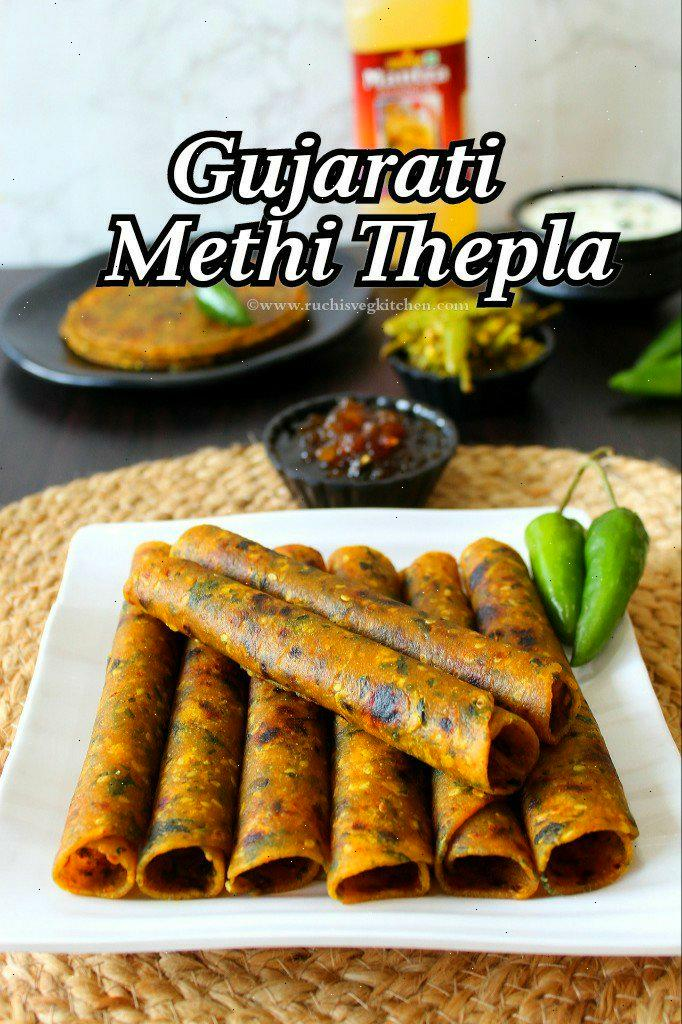thepla: (53, 508, 651, 894)
